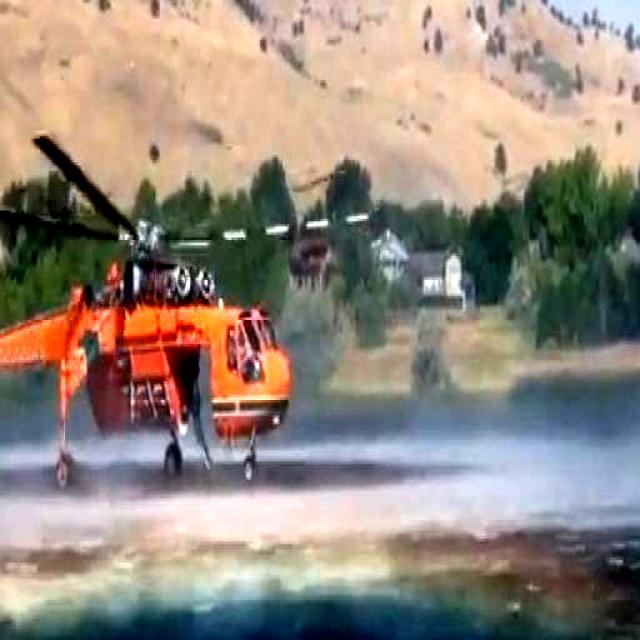drone: (0, 131, 376, 492)
